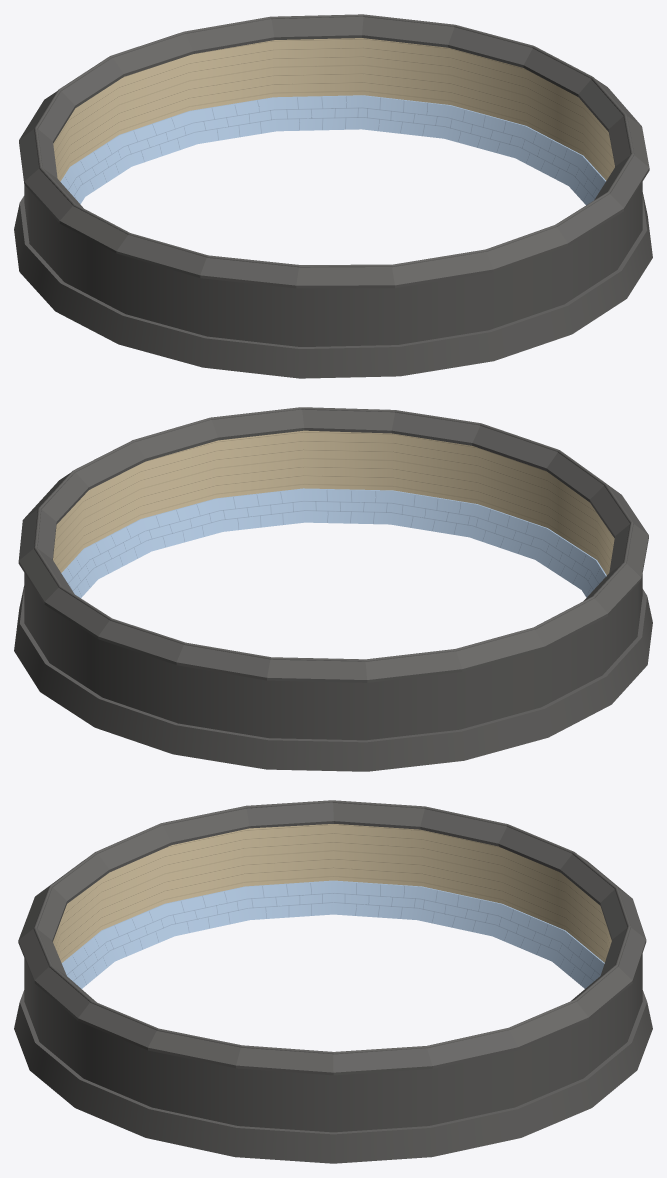
File: wall 1.fbx
The picture shows the model from 3 angles, top to bottom: view 1: azimuth 30°, elevation 25°; view 2: azimuth 150°, elevation 25°; view 3: azimuth 270°, elevation 25°; orthographic projection.
Visible parts, largest first — view 1: polySurface5; view 2: polySurface5; view 3: polySurface5.
Part boxes in pixels (x1=…): polySurface5: x1=14, y1=14, x2=652, y2=378; polySurface5: x1=14, y1=407, x2=652, y2=771; polySurface5: x1=14, y1=800, x2=652, y2=1163.
Size of the model in its own units: 206 by 36.45 by 206.
